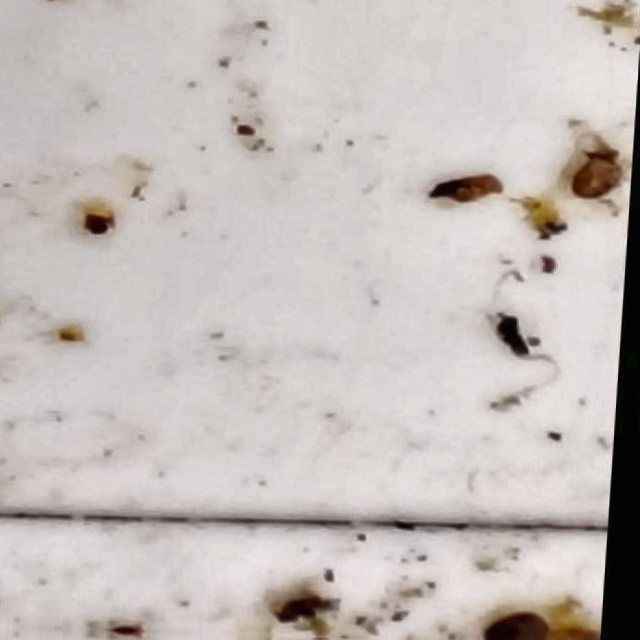varroa: (104, 623, 166, 631)
